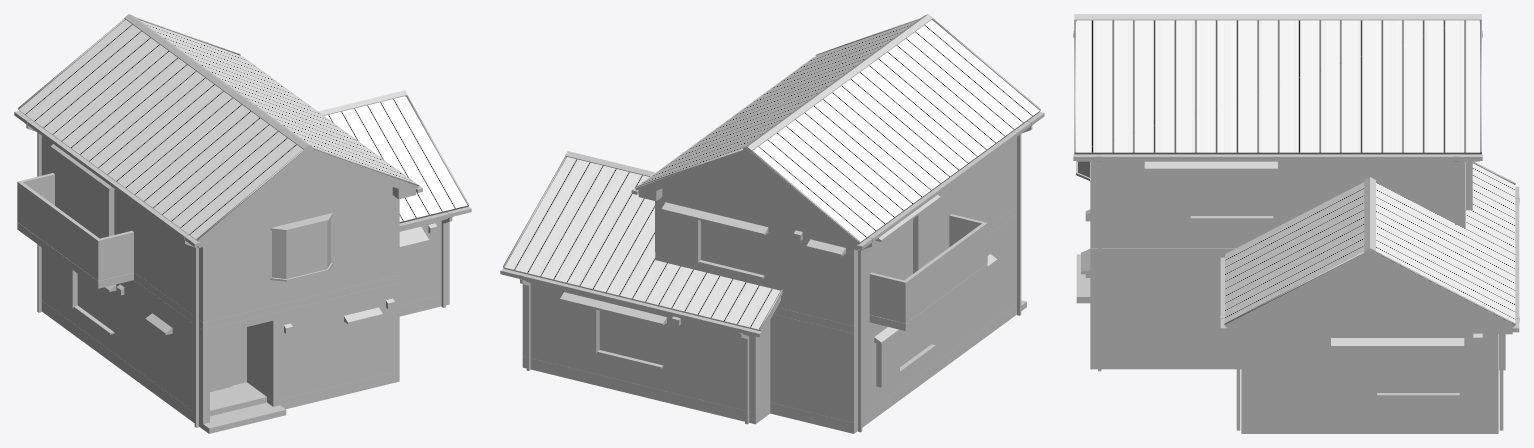
Rendered from House_2021_B.fbx.
The picture shows the model from 3 angles, left to right: view 1: azimuth 30°, elevation 25°; view 2: azimuth 150°, elevation 25°; view 3: azimuth 270°, elevation 25°; orthographic projection. The views are drawn at different scales.
Visible parts, largest first — view 1: House_2021_B; view 2: House_2021_B; view 3: House_2021_B.
Part boxes in pixels (x1,y1,x2,y2): House_2021_B: [14, 14, 471, 433]; House_2021_B: [500, 14, 1044, 433]; House_2021_B: [1073, 14, 1519, 433].
Bounding box in the file's own units: 1031 × 722 × 971.
